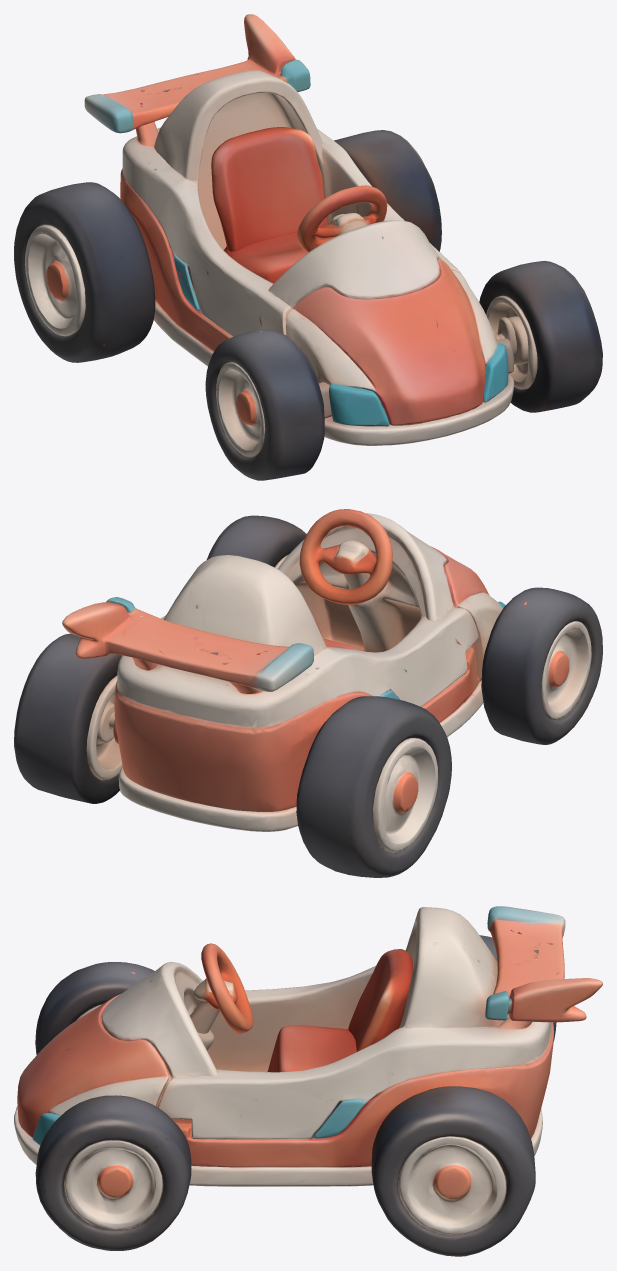
File: comet-cartoon-decimated.glb
3 renders of one model, top to bottom at view 1: azimuth 30°, elevation 25°; view 2: azimuth 150°, elevation 25°; view 3: azimuth 270°, elevation 25°, orthographic. The views are drawn at different scales.
Parts seen in each view (by area): view 1: model; view 2: model; view 3: model.
Part boxes in pixels (x1,y1,x2,y2): model: [14, 14, 602, 480]; model: [14, 509, 602, 877]; model: [14, 906, 602, 1256].
Size of the model in its own units: 1.35 by 0.9136 by 1.9.
1 material, 1 textured.
